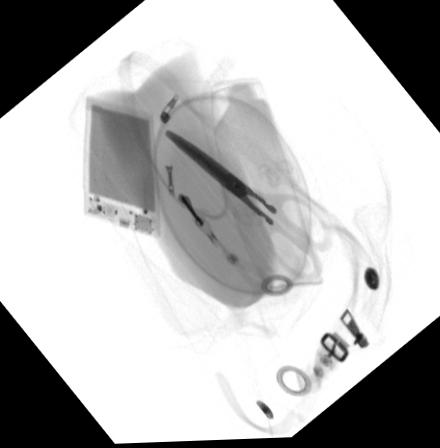Powerbank: (80, 98, 160, 238)
Scissors: (162, 126, 331, 281)
